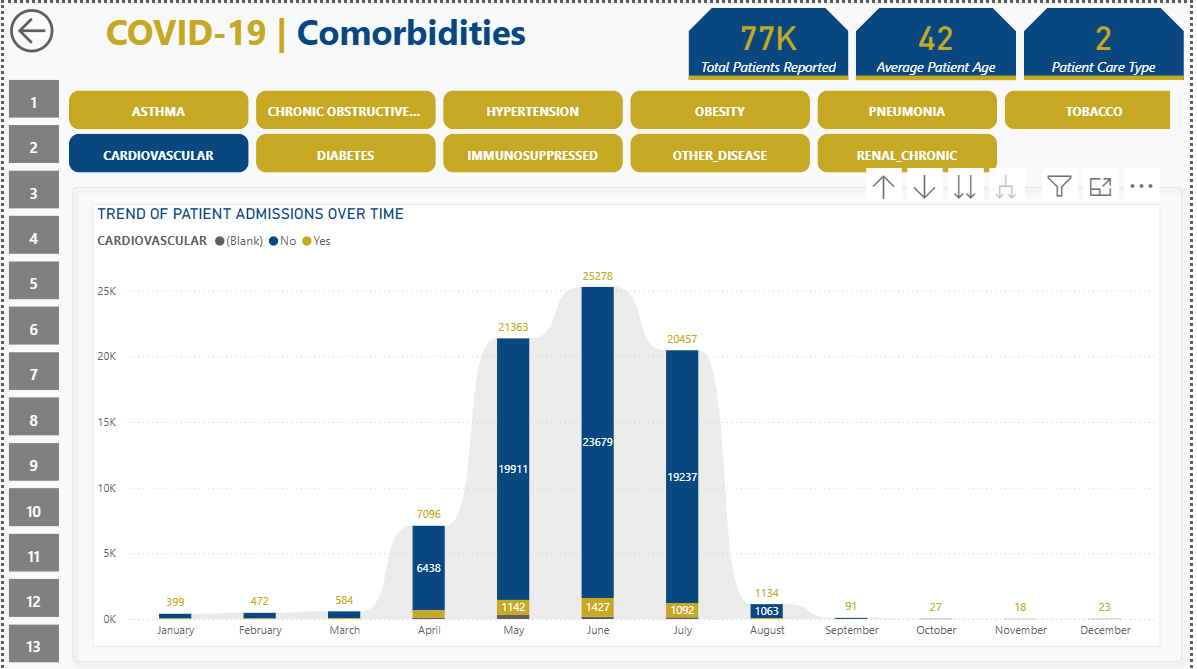

The dashboard page shown, as its layout file describes it:
{"tool":"powerbi","page":{"name":"Comorbididties","canvas":[1280,720],"ordinal":3},"visuals":[{"type":"shape","box":[64.8,189.4,1216,531.1],"z":0},{"type":"textbox","box":[64.8,0,668.7,89.1],"z":1000},{"type":"advancedSlicerVisual","fields":{"Values":["Covid Data.MEDICAL_UNIT"]},"box":[0,77.7,64.8,642.8],"z":2000},{"type":"advancedSlicerVisual","fields":{"Values":["COMORBIDITIES.COMORBIDITIES"]},"box":[64.8,89.1,1216,100.4],"z":3000},{"type":"ribbonChart","title":"TREND OF PATIENT ADMISSIONS OVER TIME","fields":{"Series":["Covid Data.CARDIOVASCULAR"],"Y":["Covid Data.NO. OF PATIENTS"],"Category":["Covid Data.DATE_DIED.Variation.Date Hierarchy.Year","Covid Data.DATE_DIED.Variation.Date Hierarchy.Month","Covid Data.DATE_DIED.Variation.Date Hierarchy.Day"]},"box":[95.5,217,1152.9,477.7],"z":4000},{"type":"actionButton","box":[0,0,72.9,59.9],"z":5000},{"type":"cardVisual","fields":{"Data":["Covid Data.NO. OF PATIENTS","Avg(Covid Data.AGE)","Count(Covid Data.PATIENT_TYPE)"]},"box":[733.5,0,546.5,88.9],"z":6000}]}

Visuals, with their boxes on the page's 1280x720 design canvas (x1, y1, x2, y2). These are canvas units, not pixel positions in the 1197x669 screenshot, which may show the page scaled, cropped or inside an application window:
shape: (left=65, top=189, right=1281, bottom=720)
textbox: (left=65, top=0, right=734, bottom=89)
advancedSlicerVisual - Covid Data.MEDICAL_UNIT: (left=0, top=78, right=65, bottom=720)
advancedSlicerVisual - COMORBIDITIES.COMORBIDITIES: (left=65, top=89, right=1281, bottom=190)
"TREND OF PATIENT ADMISSIONS OVER TIME" ribbonChart: (left=96, top=217, right=1248, bottom=695)
actionButton: (left=0, top=0, right=73, bottom=60)
cardVisual - Covid Data.NO. OF PATIENTS x Avg(Covid Data.AGE): (left=734, top=0, right=1280, bottom=89)
